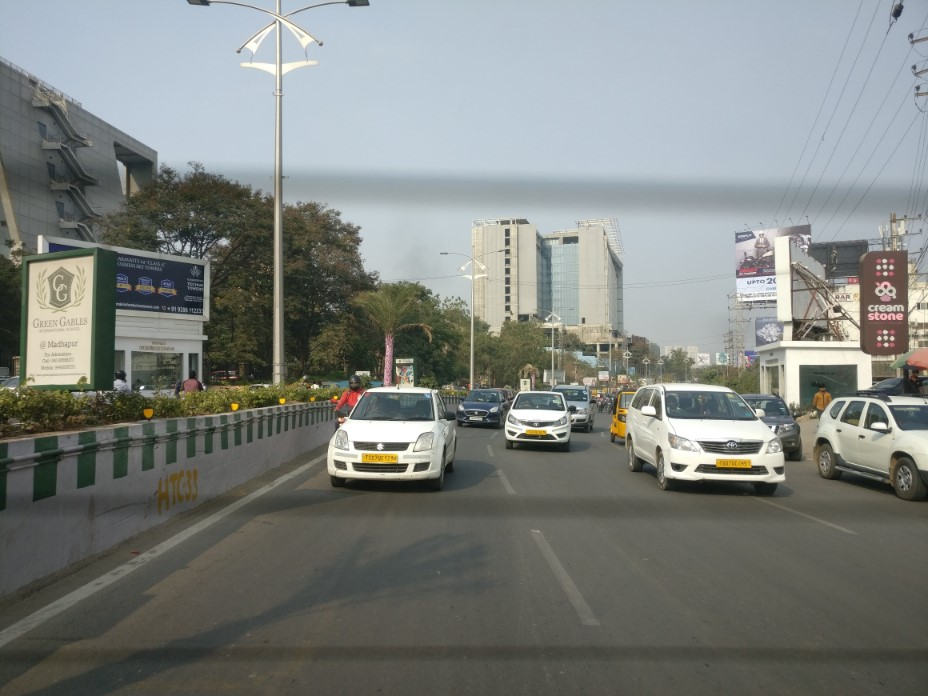swift desire: (331, 381, 456, 491)
